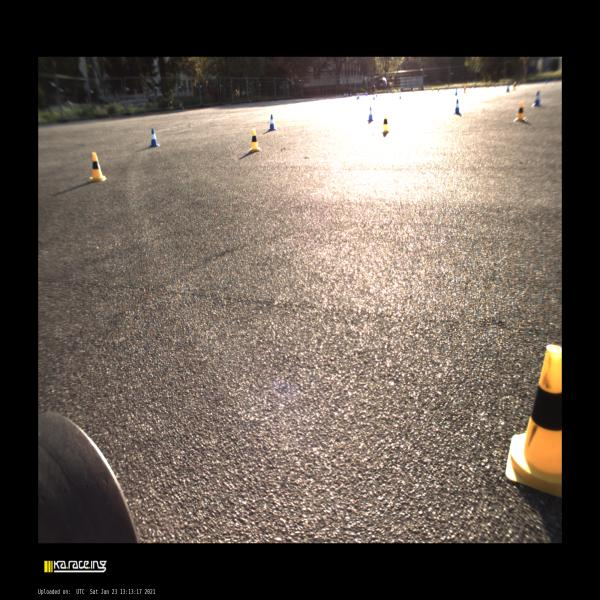blue_cone: (150, 128, 160, 147), (532, 90, 542, 106), (268, 114, 276, 130), (367, 106, 373, 121), (454, 99, 460, 113), (506, 84, 510, 92), (399, 91, 402, 99), (455, 88, 458, 95), (356, 94, 358, 100), (373, 94, 375, 100), (358, 93, 360, 98), (414, 88, 416, 92), (388, 90, 390, 94), (494, 84, 496, 87), (346, 93, 348, 96), (366, 93, 368, 96), (376, 92, 377, 97), (344, 93, 345, 97), (365, 92, 366, 95), (350, 93, 351, 96)
yellow_cone: (506, 345, 562, 498), (89, 153, 106, 180), (249, 128, 261, 151), (514, 101, 526, 122), (381, 115, 390, 132), (513, 82, 516, 91), (464, 86, 466, 94), (437, 87, 439, 92), (416, 88, 418, 92), (394, 89, 396, 93), (412, 89, 414, 92), (392, 89, 393, 94), (487, 84, 488, 88), (432, 87, 433, 91)
